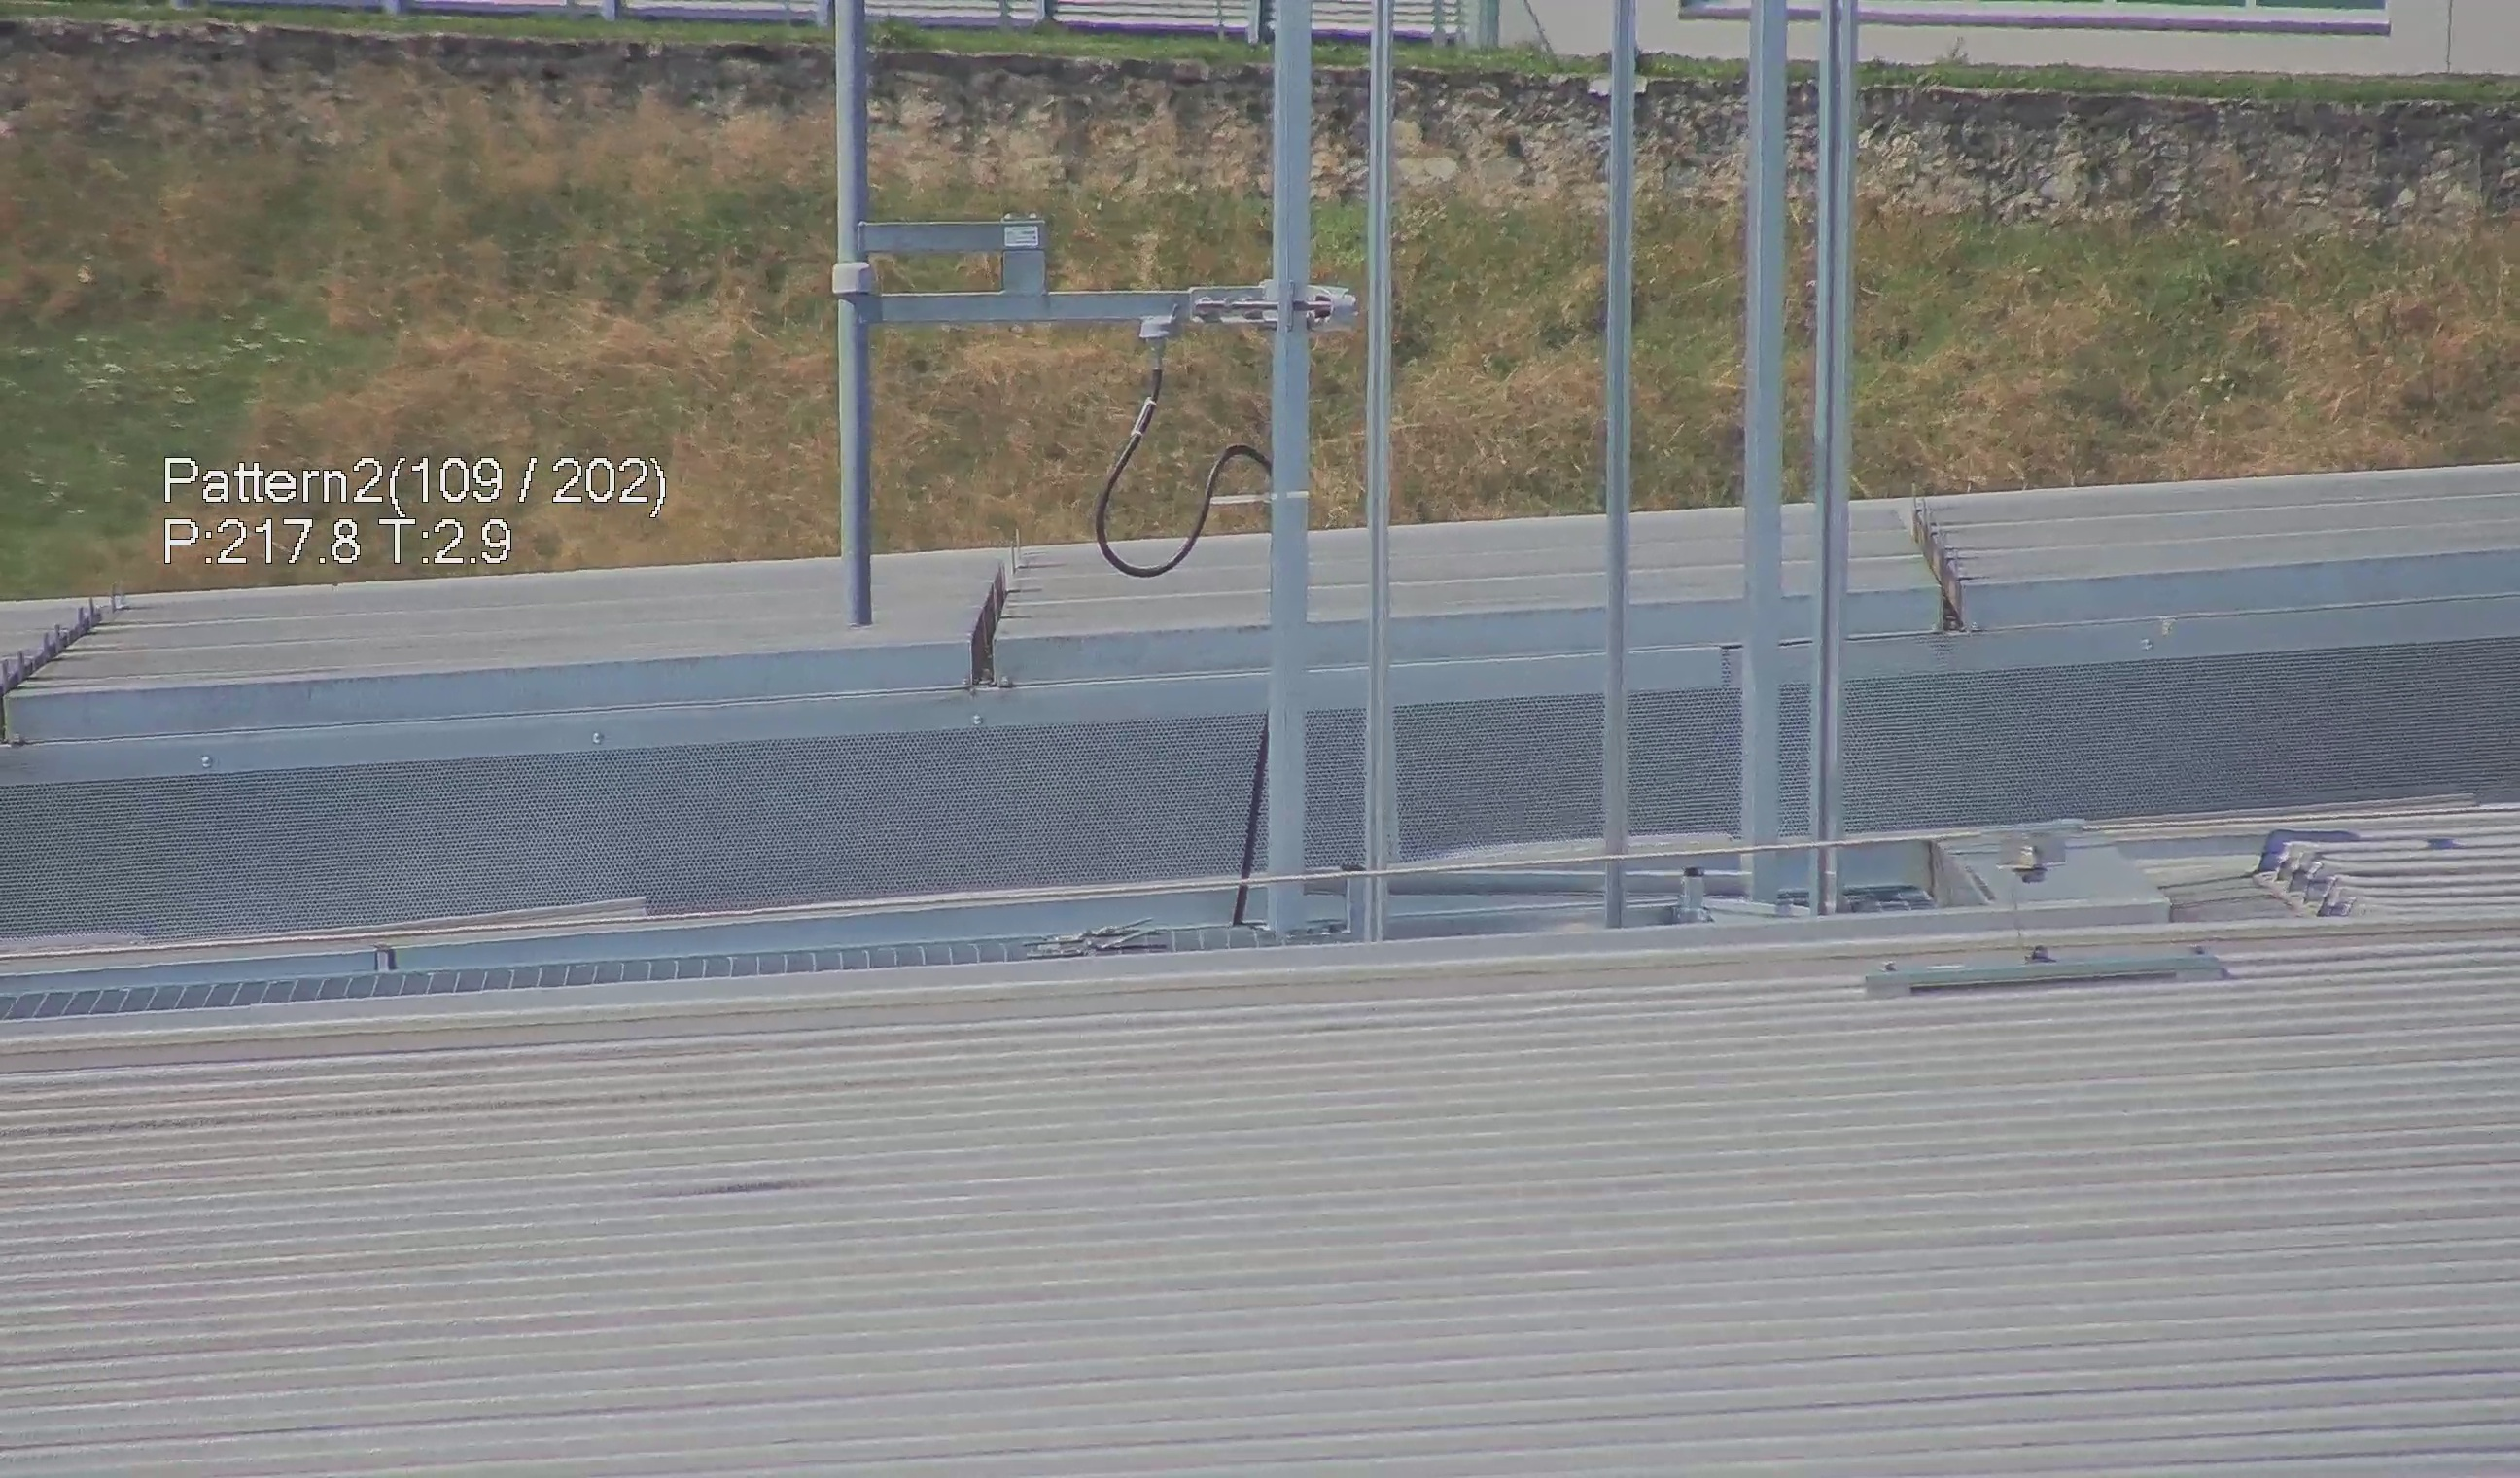Other: (1908, 487, 1998, 639), (948, 551, 1022, 691)
